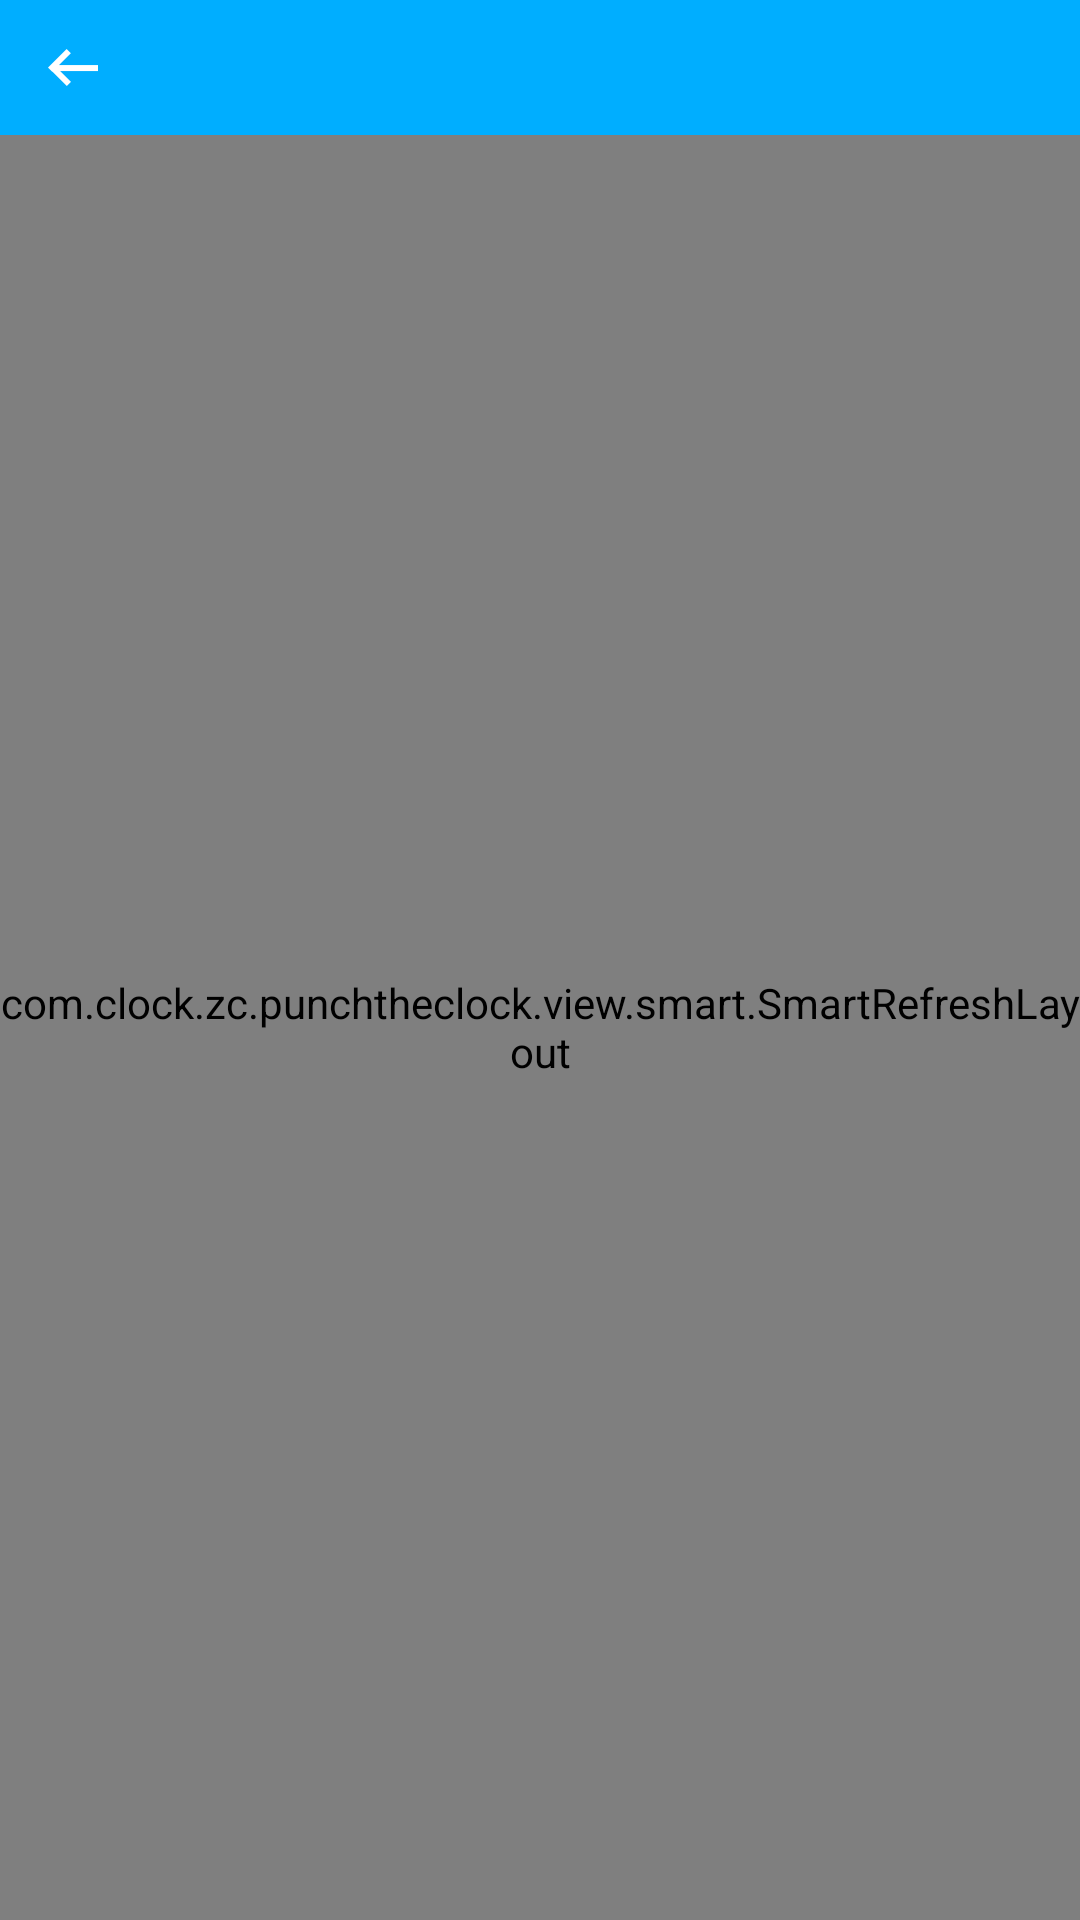

Where icons sit on this 1080x1920 app screen, as (x1, y1, x2, y2):
back android: (48, 49, 98, 86)
